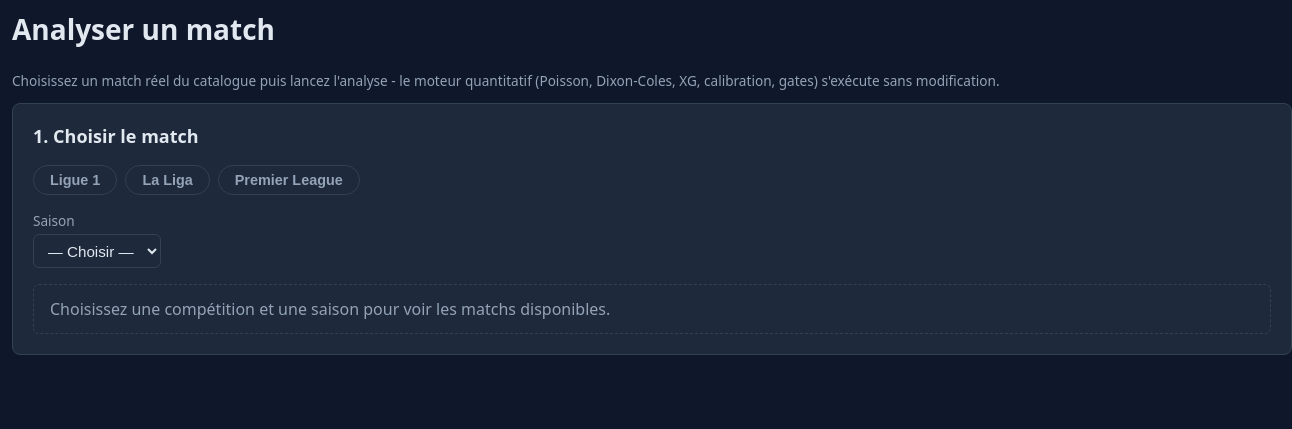
AnalyzeMatch › ne résout aucun match et désactive "Analyser le match" avant sélection
Step 1. Click the tab "Ligue 1" → (75, 180), box [33,165,117,196]
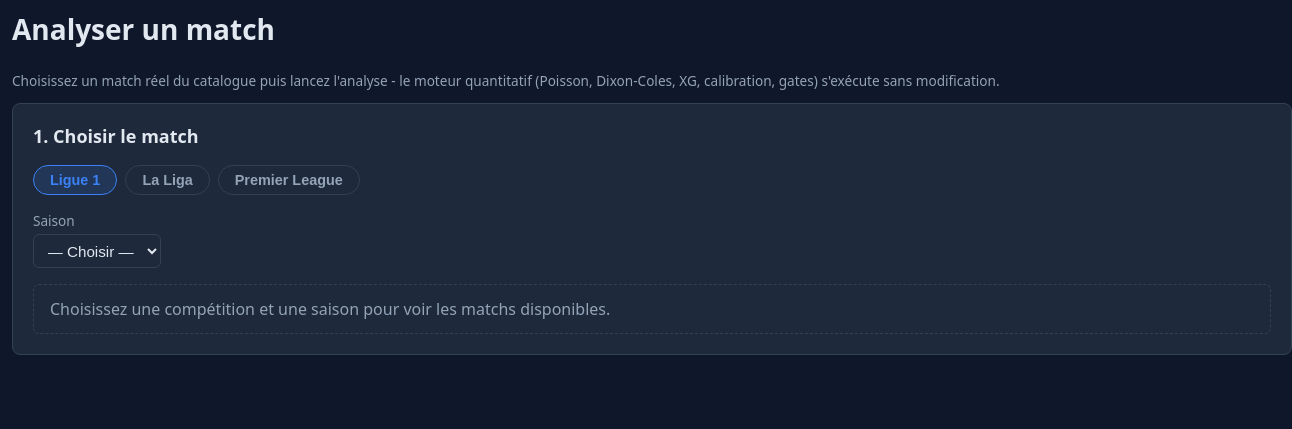
Step 2. Select "2026/27" in the dropdown labelled "Saison" → (97, 251), box [33,234,161,268]
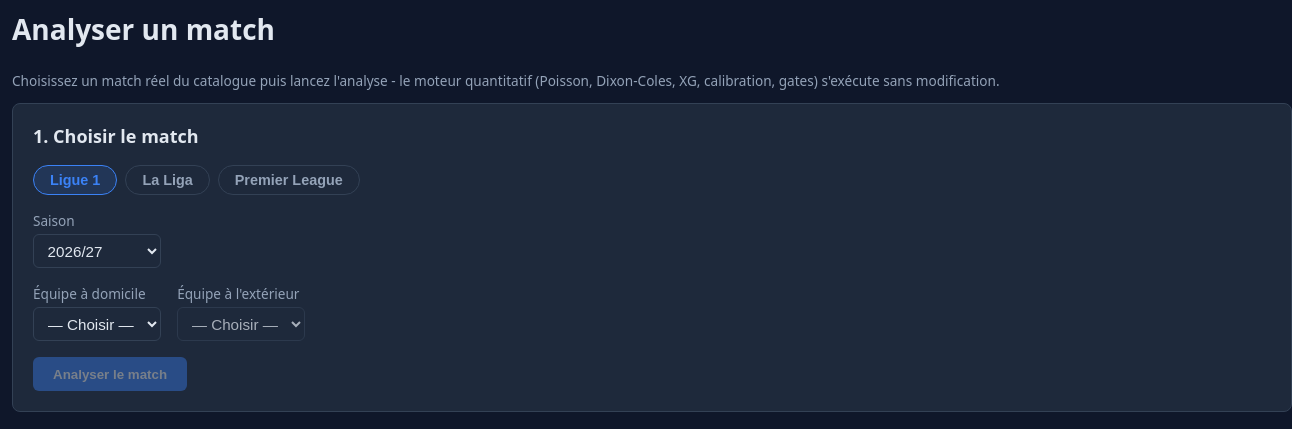
Expected: the dropdown labelled "Équipe à domicile" is shown, [33,307,161,341]
Expected: the button "Analyser le match" is disabled, [33,357,187,391]
